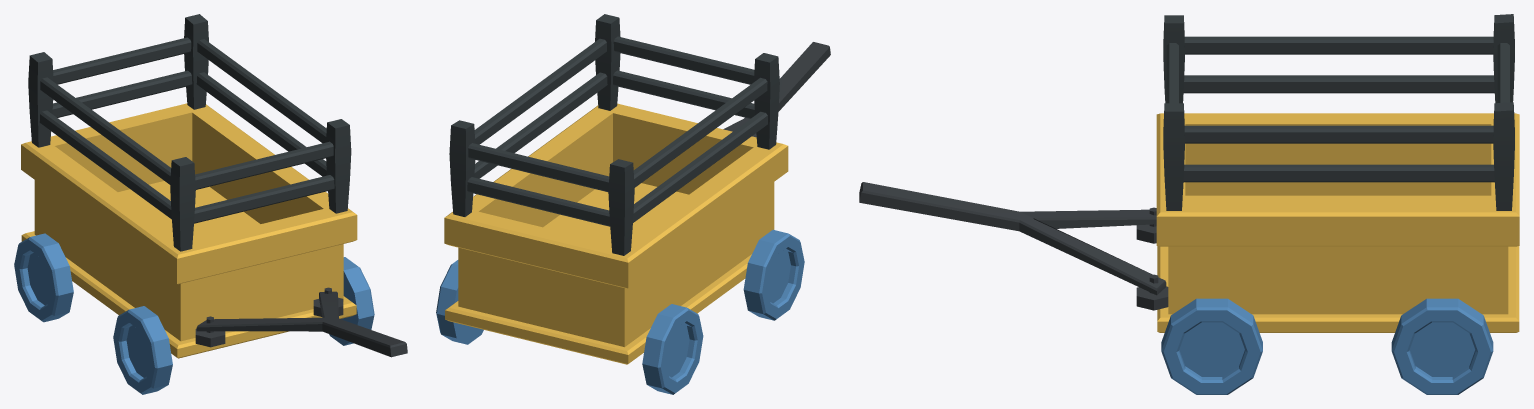
Rendered from cart_a_512.gltf.
3 views of the same model, side by side, from view 1: azimuth 30°, elevation 25°; view 2: azimuth 150°, elevation 25°; view 3: azimuth 270°, elevation 25° (orthographic). The views are drawn at different scales.
Visible parts, largest first — view 1: body, wheel_2, wheel_5, wheel_4, wheel_1, wheel_9; view 2: body, wheel_5, wheel_2, wheel_4, wheel_1, wheel_6; view 3: body, wheel_11, wheel_8, wheel_7, wheel_10.
Part boxes in pixels (bbox=[...]): body: bbox=[18, 14, 407, 394]; wheel_2: bbox=[113, 312, 154, 393]; wheel_5: bbox=[14, 239, 55, 320]; wheel_4: bbox=[27, 253, 50, 305]; wheel_1: bbox=[126, 325, 149, 377]; wheel_9: bbox=[329, 271, 358, 345]; body: bbox=[436, 14, 830, 394]; wheel_5: bbox=[660, 310, 703, 393]; wheel_2: bbox=[762, 236, 804, 318]; wheel_4: bbox=[666, 324, 689, 377]; wheel_1: bbox=[767, 249, 790, 303]; wheel_6: bbox=[453, 288, 483, 344]; body: bbox=[859, 14, 1519, 394]; wheel_11: bbox=[1163, 310, 1260, 393]; wheel_8: bbox=[1394, 310, 1490, 393]; wheel_7: bbox=[1409, 322, 1475, 376]; wheel_10: bbox=[1179, 322, 1244, 376].
Size of the model in its own units: 0.607 by 0.6175 by 1.36.
Materials: 1 (1 with a texture image).
